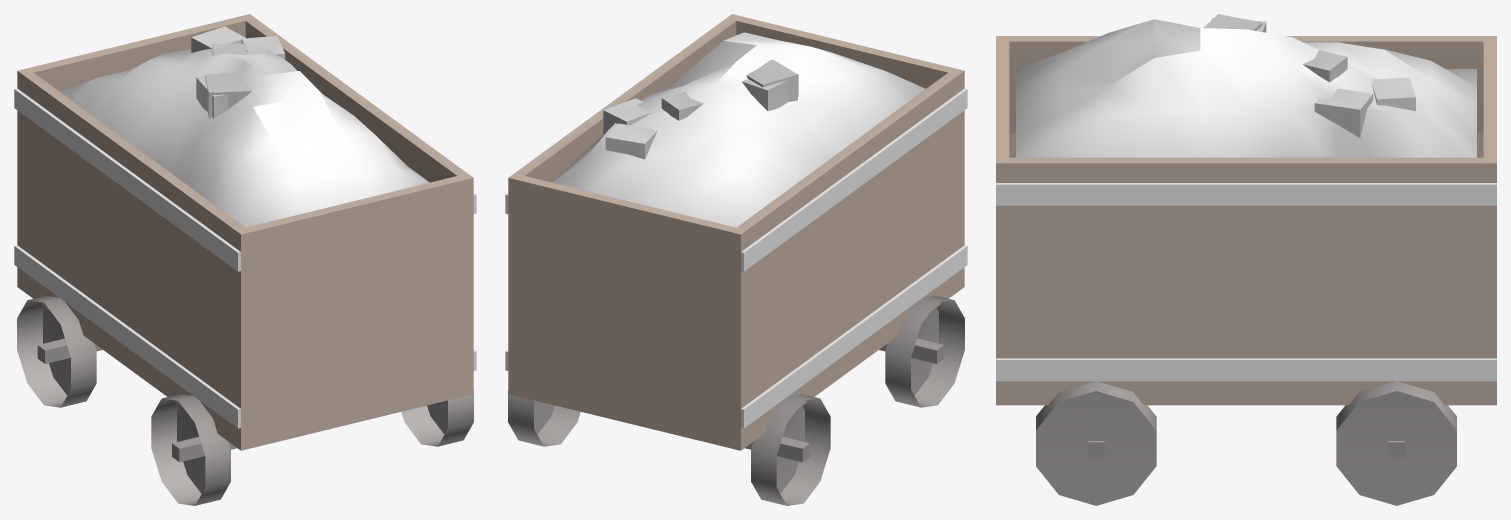
File: kit_cart.glb
3 renders of one model, left to right at view 1: azimuth 30°, elevation 25°; view 2: azimuth 150°, elevation 25°; view 3: azimuth 270°, elevation 25°, orthographic. The views are drawn at different scales.
Visible parts, largest first — view 1: kit_cart; view 2: kit_cart; view 3: kit_cart.
Part boxes in pixels (bbox=[...]): kit_cart: bbox=[14, 14, 476, 505]; kit_cart: bbox=[505, 14, 967, 505]; kit_cart: bbox=[996, 14, 1496, 505].
Size of the model in its own units: 1.06 by 1.34 by 1.5.
